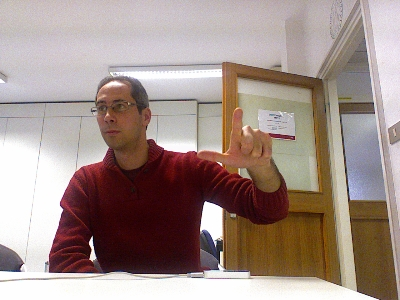枪: (195, 106, 274, 172)
